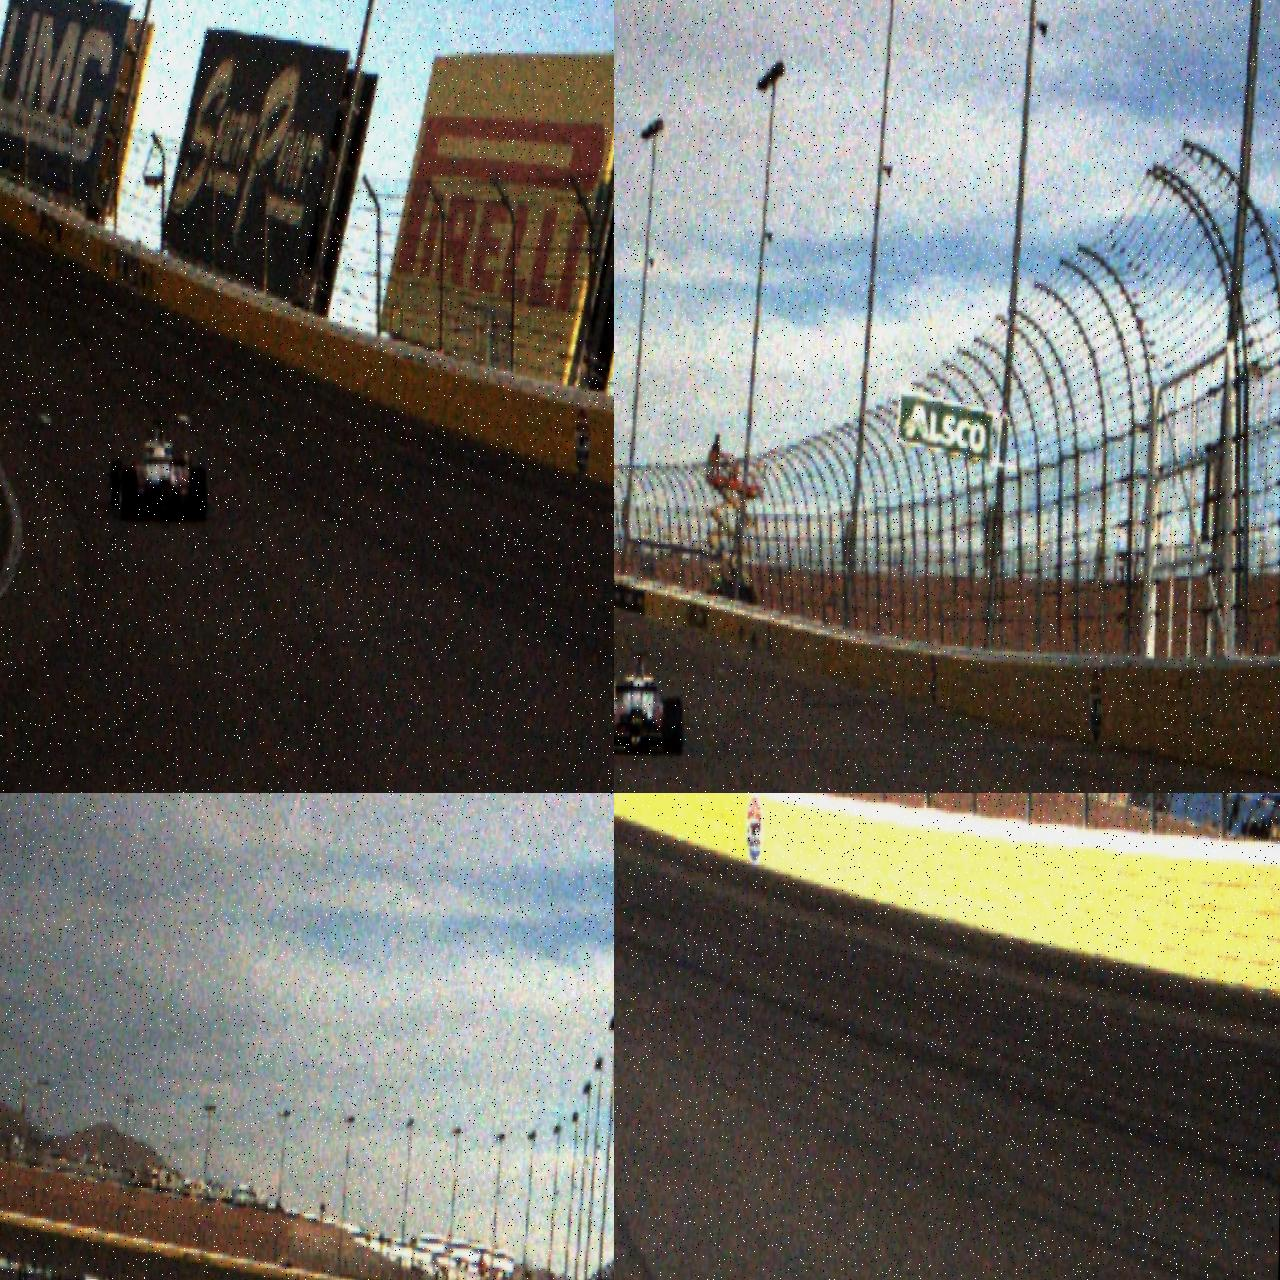AV: (109, 417, 209, 522), (614, 651, 685, 756)
Wheel: (663, 696, 682, 756), (120, 468, 138, 520), (191, 467, 207, 520), (109, 459, 124, 505)
